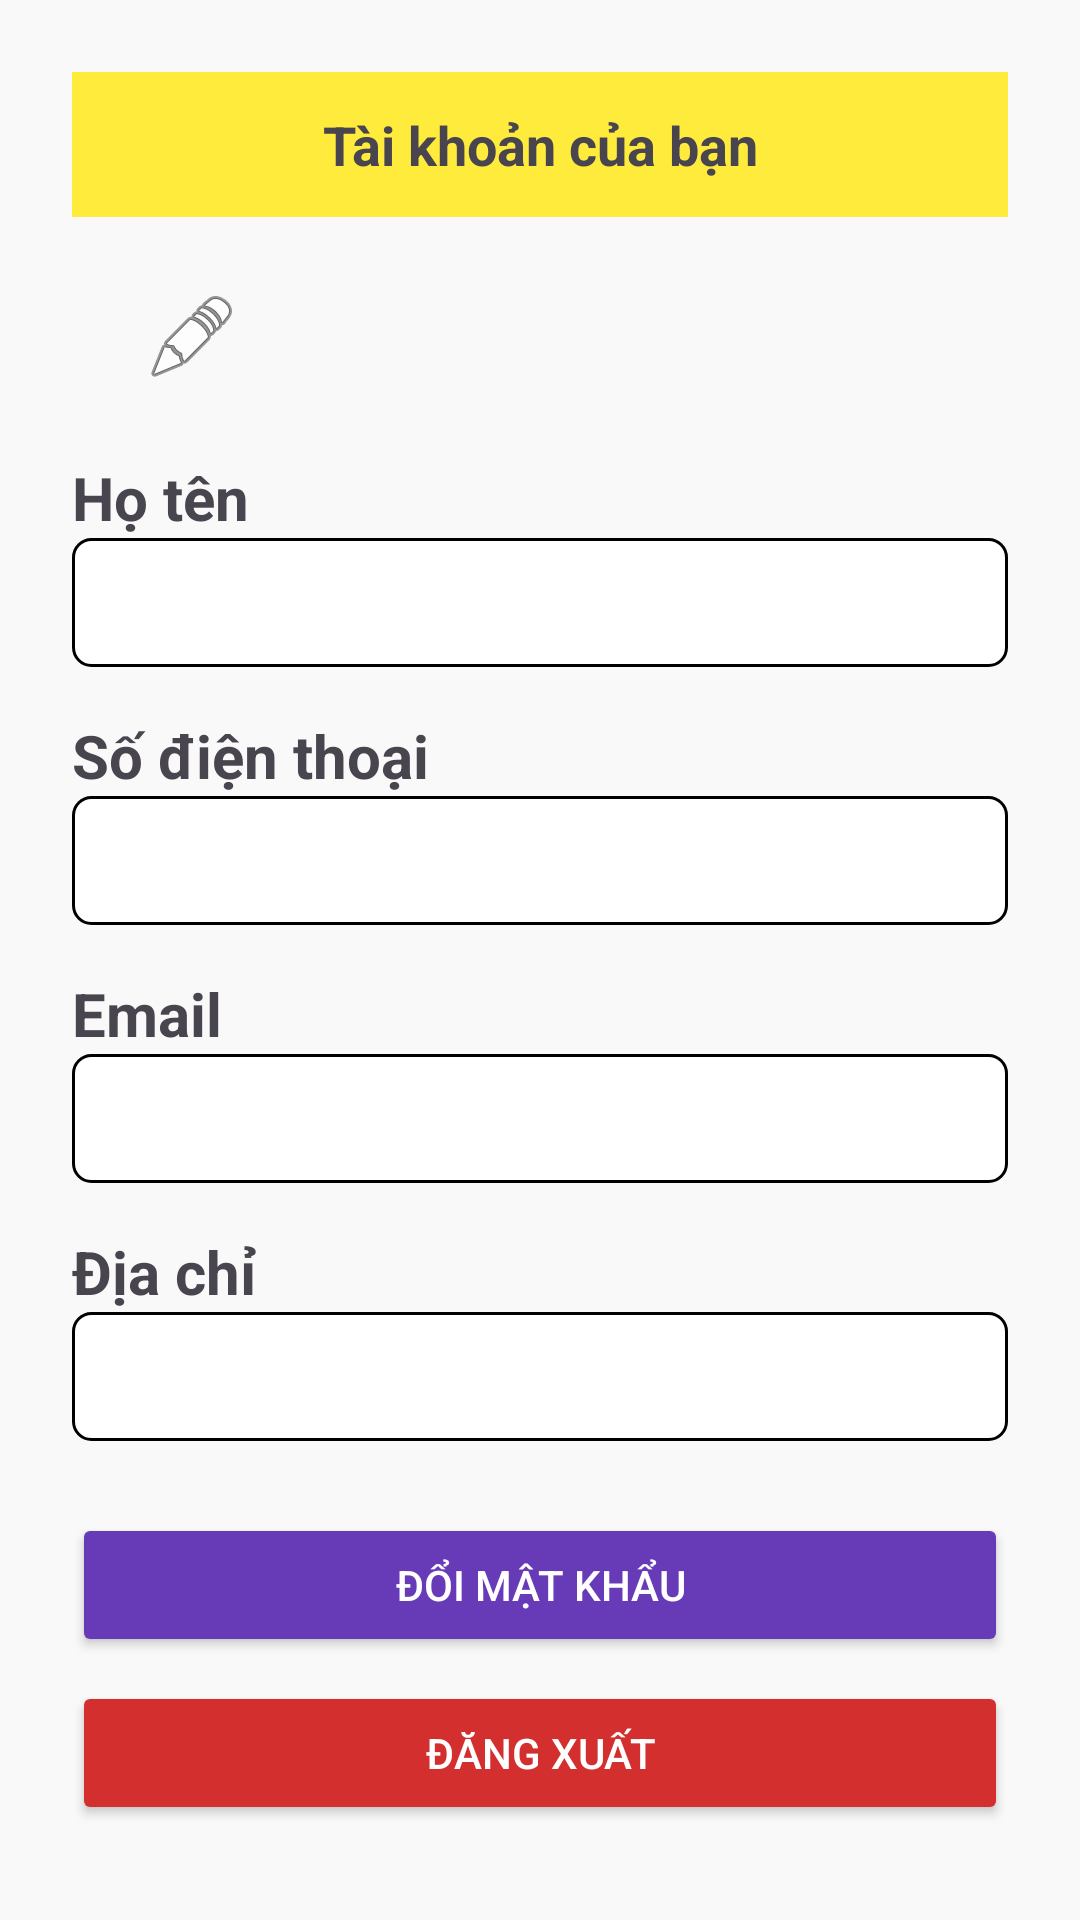

Named icons in this screenshot (1080px x 1920px) and their centers, [x,y]:
Sửa thông tin: [191,336]
